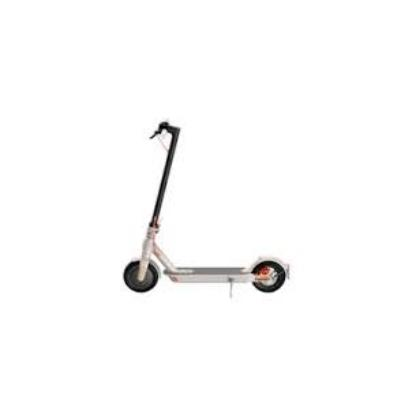bike: (122, 121, 291, 299)
